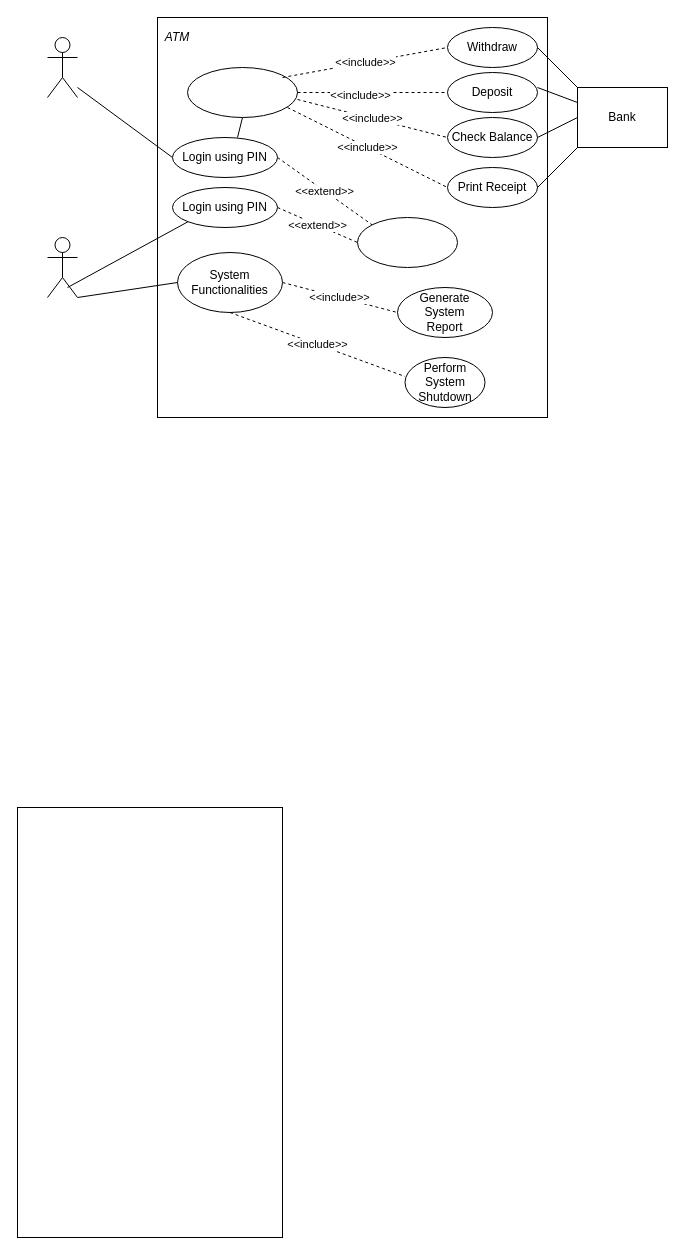
Image size: 685x1255. Some labels were removed from this diagram. The box of each missing label's shape, as (x1, y1, x2, y2) in pixels:
Customer: (46, 36, 78, 98)
Display Bad Pin Message: (356, 216, 458, 268)
FMS: (16, 806, 282, 1238)
System Administrator: (46, 236, 78, 298)
Transactional Functionalities: (186, 66, 298, 118)
